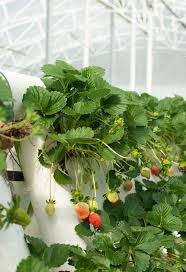ripe: (88, 211, 101, 229), (124, 176, 134, 192), (151, 161, 160, 178)
unripe: (16, 204, 32, 231), (74, 200, 88, 220), (104, 189, 120, 205), (45, 198, 57, 216), (86, 197, 98, 214), (139, 165, 151, 181)
